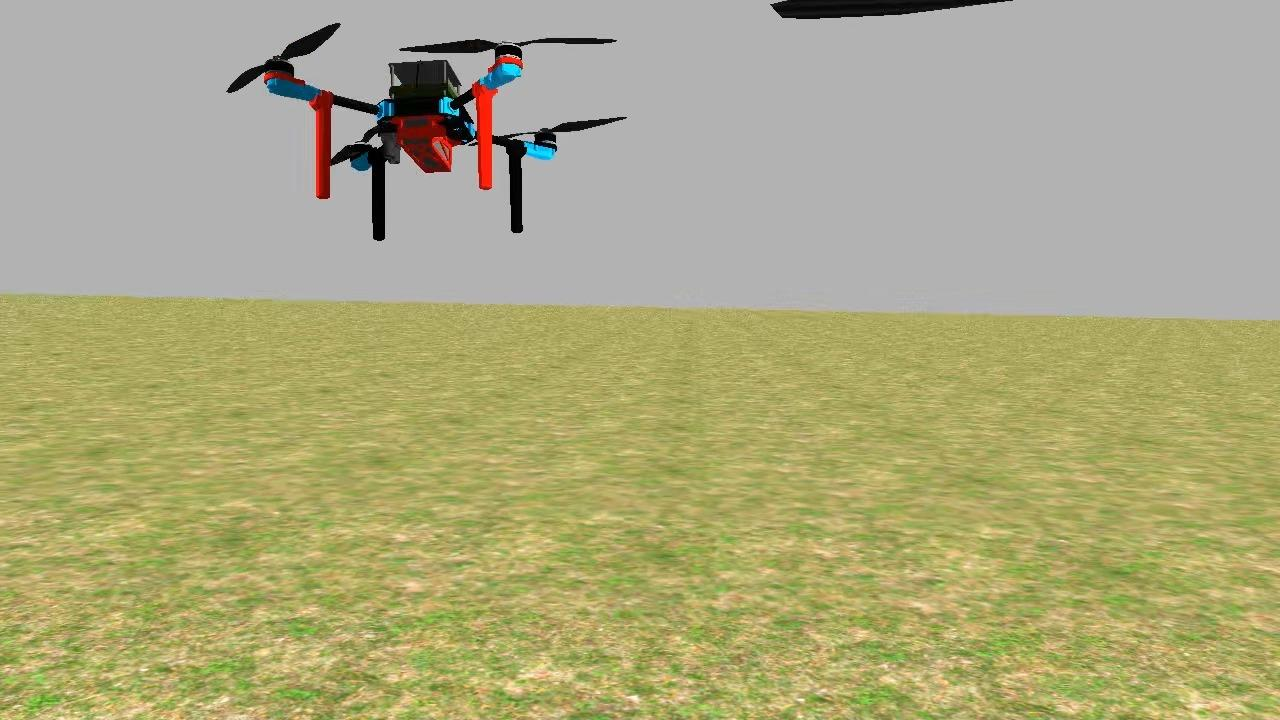UAV: (238, 34, 570, 238)
